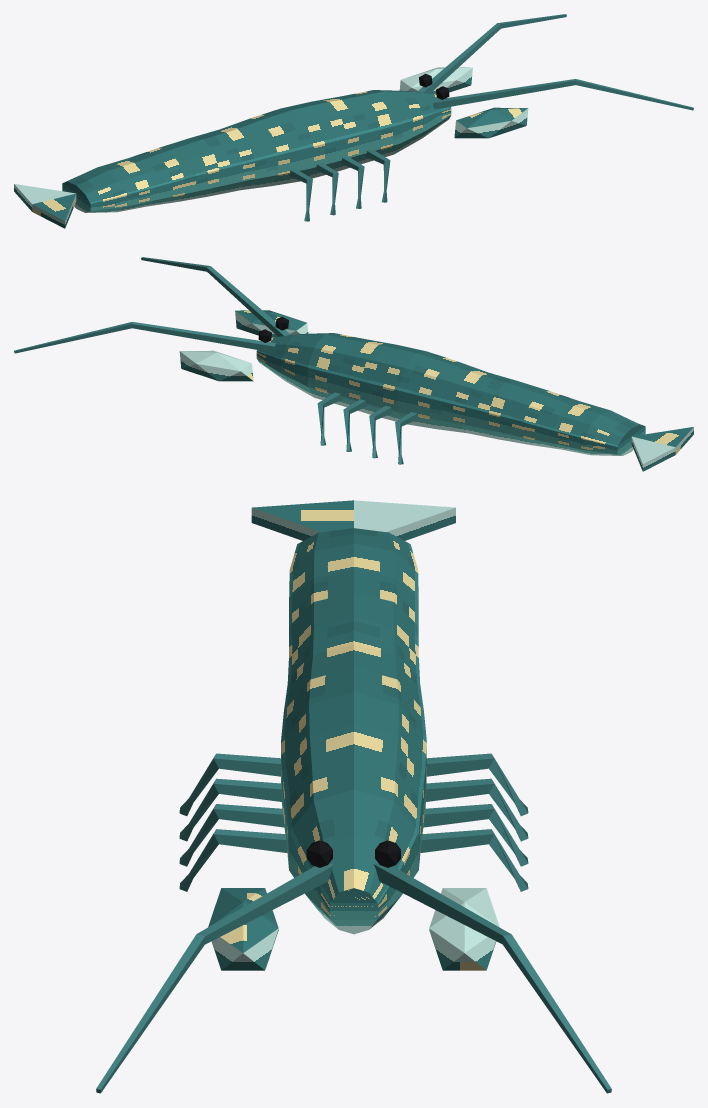
Rendered from painted_crayfish.glb.
The picture shows the model from 3 angles, top to bottom: view 1: azimuth 30°, elevation 25°; view 2: azimuth 150°, elevation 25°; view 3: azimuth 270°, elevation 25°; orthographic projection. The views are drawn at different scales.
Parts seen in each view (by area): view 1: fish_painted_crayfish; view 2: fish_painted_crayfish; view 3: fish_painted_crayfish.
Boxes of the visible parts, x1=… form: fish_painted_crayfish: x1=14, y1=14, x2=693, y2=228; fish_painted_crayfish: x1=14, y1=257, x2=693, y2=471; fish_painted_crayfish: x1=96, y1=500, x2=611, y2=1093.
Bounding box in the file's own units: 1.62 × 0.1934 × 0.6055.
Materials: 3 (1 with a texture image).
